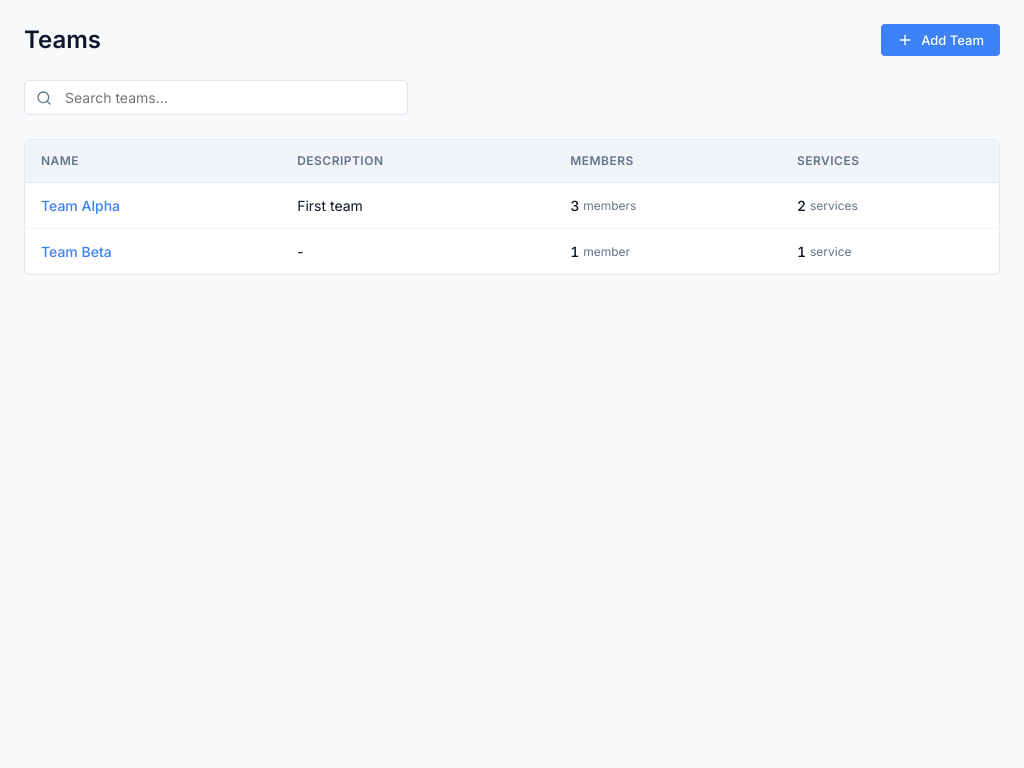
TeamsList › opens add team modal when button clicked
Click the button "Add Team".
click(941, 40)  # box [881,24,1000,56]
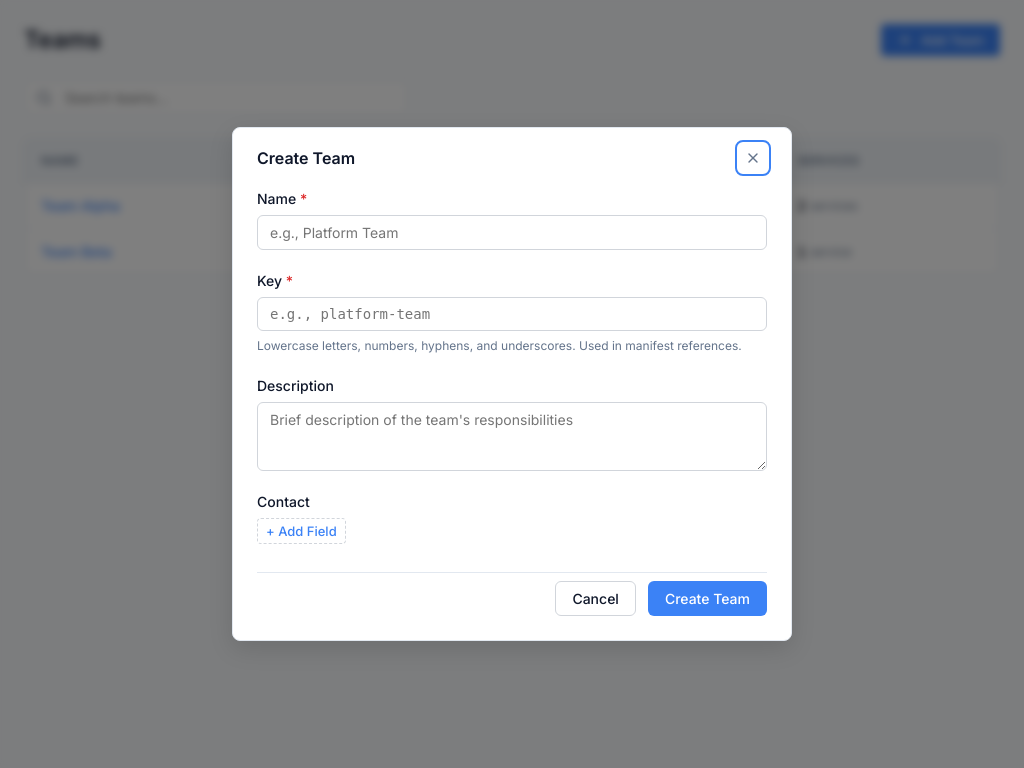
Expected: the dialog is shown, [232,127,792,641]
